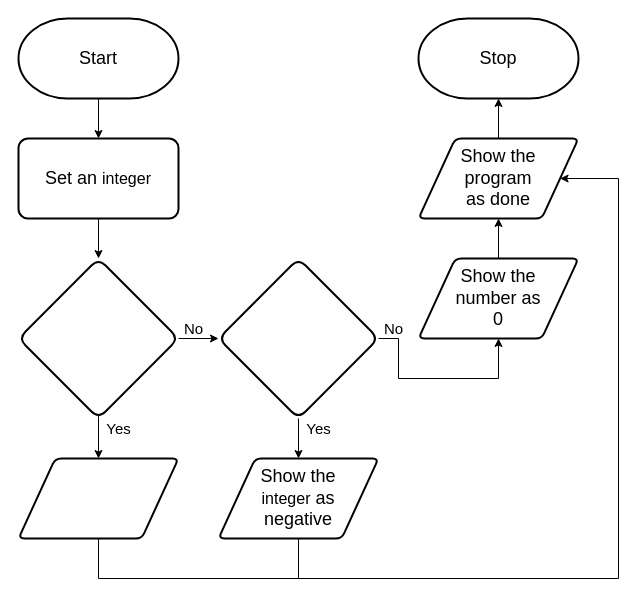
Some shapes in this 644 by 604 pixel diagram are drawn without their labels. The box of each missing label's shape, as (x1, y1, x2, y2) in pixels:
if integer < 0: (217, 257, 379, 419)
if integer > 0: (17, 257, 179, 419)
Show the integer as positive: (17, 457, 179, 539)
